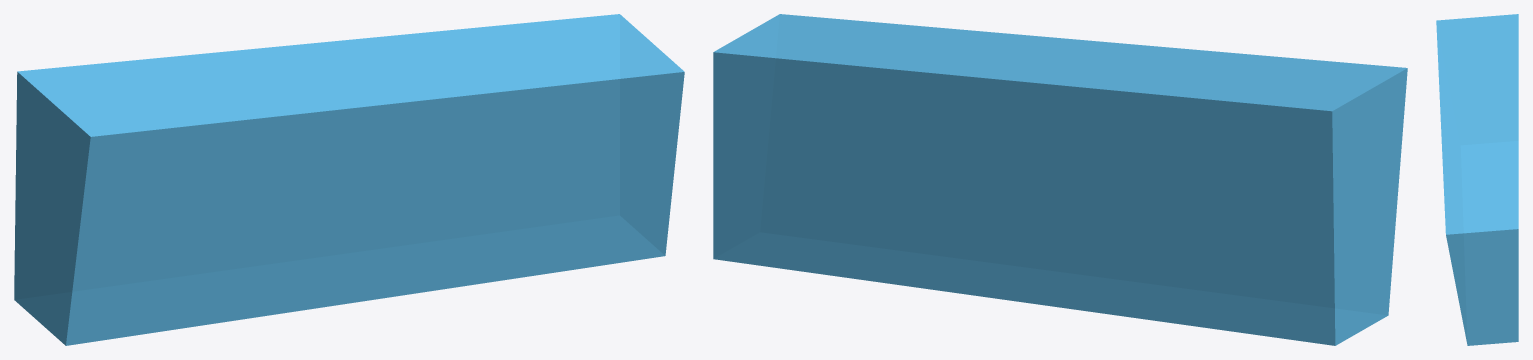
The model's file is Event_421127236_HErechit_42.fbx.
3 views of the same model, side by side, from view 1: azimuth 30°, elevation 25°; view 2: azimuth 150°, elevation 25°; view 3: azimuth 270°, elevation 25° (orthographic). The views are drawn at different scales.
Visible parts, largest first — view 1: Model; view 2: Model; view 3: Model.
Boxes of the visible parts, bbox=[...] form: Model: bbox=[14, 14, 684, 345]; Model: bbox=[713, 14, 1407, 345]; Model: bbox=[1436, 14, 1518, 345].
Size of the model in its own units: 1.47 by 0.692 by 0.3093.
